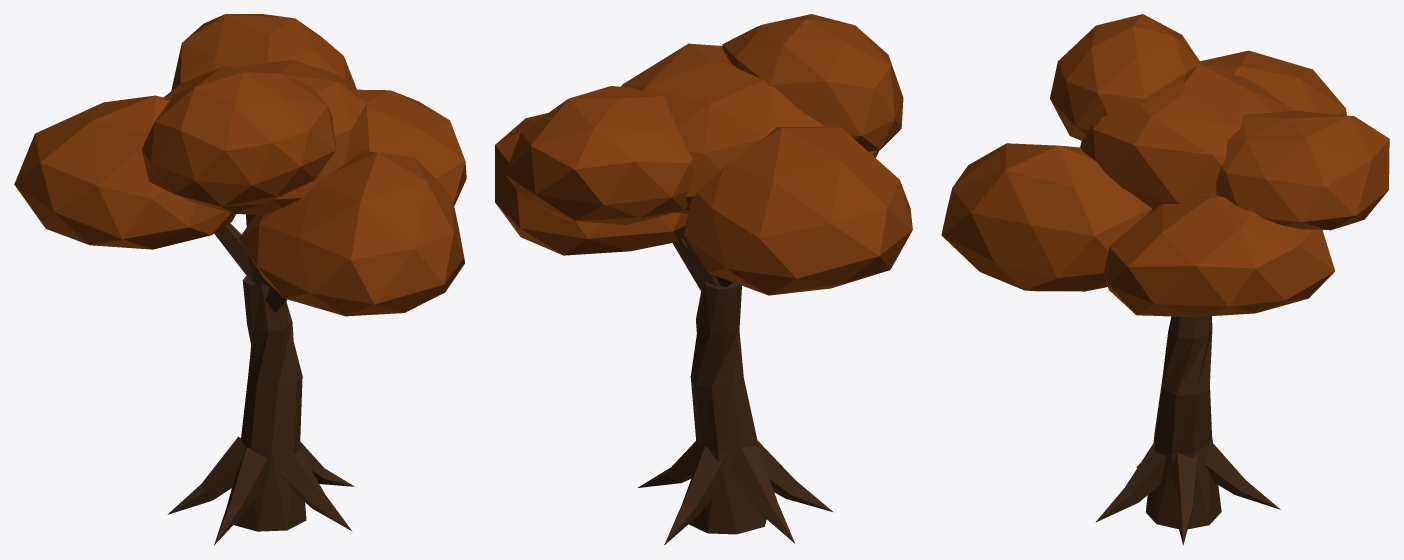
The model's file is roble_otono.fbx.
3 views of the same model, side by side, from view 1: azimuth 30°, elevation 25°; view 2: azimuth 150°, elevation 25°; view 3: azimuth 270°, elevation 25° (orthographic). The views are drawn at different scales.
Visible parts, largest first — view 1: roble_otono; view 2: roble_otono; view 3: roble_otono.
Part boxes in pixels (left/top/right/bottom): roble_otono: left=14, top=14, right=466, bottom=545; roble_otono: left=495, top=14, right=912, bottom=545; roble_otono: left=941, top=14, right=1389, bottom=545.
Bounding box in the file's own units: 7.64 × 8.77 × 7.68.
